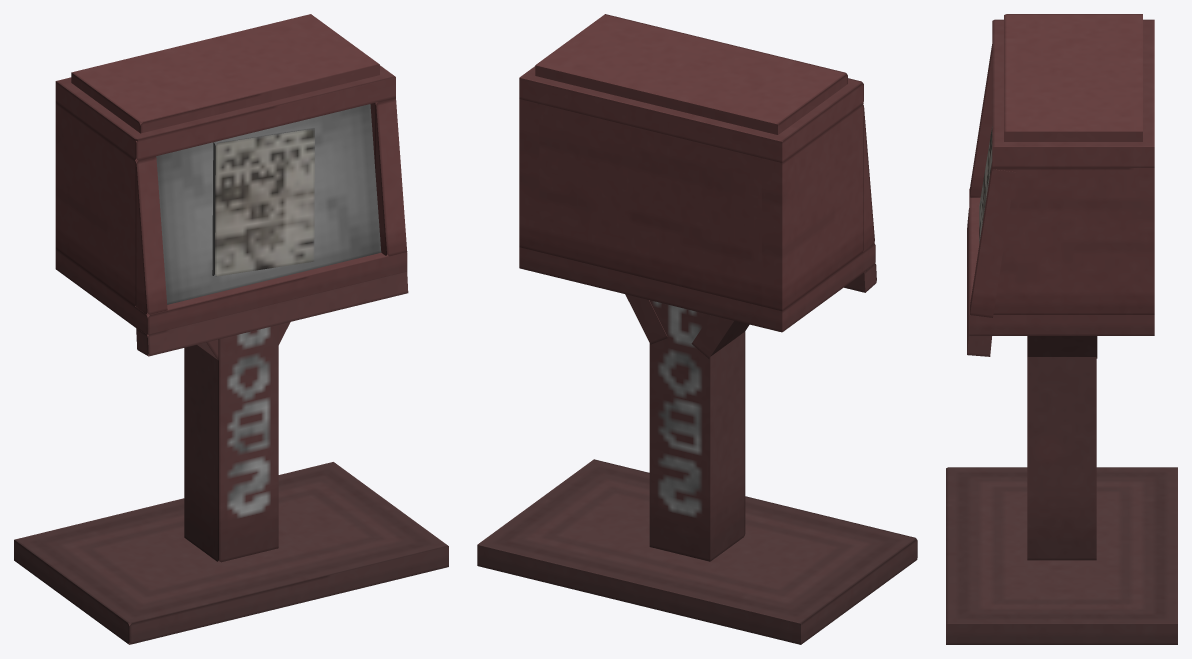
File: newsstand2.obj
The picture shows the model from 3 angles, left to right: view 1: azimuth 30°, elevation 25°; view 2: azimuth 150°, elevation 25°; view 3: azimuth 270°, elevation 25°; orthographic projection.
Visible parts, largest first — view 1: baseModel0, baseModel1, baseModel14, baseModel9, baseModel10, baseModel3, baseModel6, baseModel2, baseModel13, baseModel8, baseModel7; view 2: baseModel0, baseModel5, baseModel1, baseModel14, baseModel3, baseModel6, baseModel2, baseModel4, baseModel11, baseModel12, baseModel8; view 3: baseModel0, baseModel4, baseModel14, baseModel1, baseModel6, baseModel2, baseModel7, baseModel8, baseModel12, baseModel13, baseModel10.
Boxes of the visible parts, x1,y1,x2,y2 form: baseModel0: (14, 462, 448, 644); baseModel1: (184, 325, 278, 562); baseModel14: (71, 14, 379, 140); baseModel9: (156, 104, 381, 304); baseModel10: (212, 127, 314, 276); baseModel3: (55, 102, 156, 305); baseModel6: (55, 65, 395, 160); baseModel2: (55, 248, 407, 336); baseModel13: (136, 271, 408, 356); baseModel8: (135, 157, 167, 315); baseModel7: (375, 99, 407, 256); baseModel0: (477, 459, 917, 644); baseModel5: (539, 104, 761, 306); baseModel1: (649, 300, 745, 561); baseModel14: (535, 14, 847, 134); baseModel3: (762, 104, 863, 311); baseModel6: (519, 66, 863, 162); baseModel2: (519, 243, 875, 332); baseModel4: (519, 99, 539, 251); baseModel11: (691, 315, 749, 358); baseModel12: (625, 294, 667, 344); baseModel8: (863, 108, 874, 251); baseModel0: (946, 467, 1177, 644); baseModel4: (992, 168, 1154, 314); baseModel14: (1004, 14, 1142, 141); baseModel1: (1027, 336, 1096, 560); baseModel6: (992, 19, 1154, 167); baseModel2: (969, 188, 1154, 335); baseModel7: (970, 162, 1015, 317); baseModel8: (970, 44, 992, 197); baseModel12: (1027, 336, 1097, 358); baseModel13: (967, 208, 991, 356); baseModel10: (979, 126, 992, 243).
Size of the model in its own units: 16 by 23.5 by 10.
